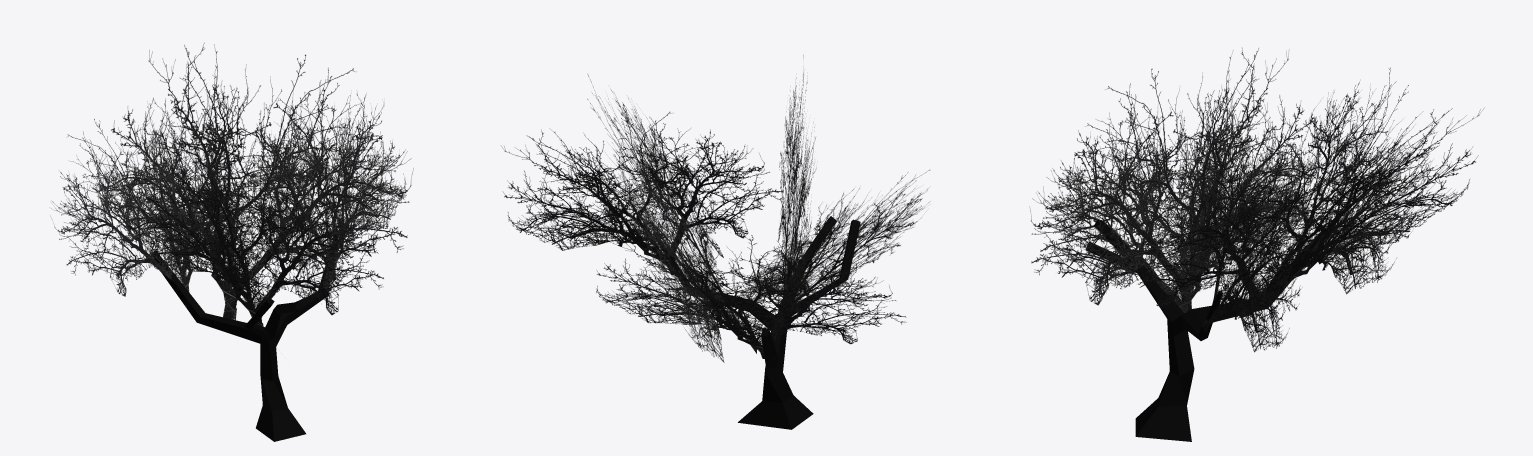
The model's file is tree.glb.
The picture shows the model from 3 angles, left to right: view 1: azimuth 30°, elevation 25°; view 2: azimuth 150°, elevation 25°; view 3: azimuth 270°, elevation 25°; orthographic projection. The views are drawn at different scales.
Parts seen in each view (by area): view 1: Empty.007, Empty.006, Empty.009, Empty.008, Cube.001, Cube; view 2: Empty.008, Empty.009, Empty.007, Empty.005, Cube.001, Empty.006, Cube; view 3: Empty.006, Empty.007, Empty.005, Empty.009, Empty.008, Cube.001, Cube.
Part boxes in pixels (<box>): Empty.007: <box>96,42,413,320</box>; Empty.006: <box>122,127,383,326</box>; Empty.009: <box>49,98,244,307</box>; Empty.008: <box>245,91,406,280</box>; Cube.001: <box>150,234,338,441</box>; Cube: <box>261,302,303,385</box>; Empty.008: <box>501,112,784,274</box>; Empty.009: <box>596,232,906,359</box>; Empty.007: <box>587,74,756,362</box>; Empty.005: <box>745,170,929,325</box>; Cube.001: <box>655,219,860,429</box>; Empty.006: <box>778,55,816,320</box>; Cube: <box>778,216,836,379</box>; Empty.006: <box>1040,48,1321,310</box>; Empty.007: <box>1112,108,1483,318</box>; Empty.005: <box>1029,99,1307,312</box>; Empty.009: <box>1276,67,1444,294</box>; Empty.008: <box>1194,121,1318,352</box>; Cube.001: <box>1094,219,1326,441</box>; Cube: <box>1085,241,1179,375</box>.
Bounding box in the file's own units: 43.95 × 35.02 × 45.48.
Materials: 6 (5 with a texture image).
